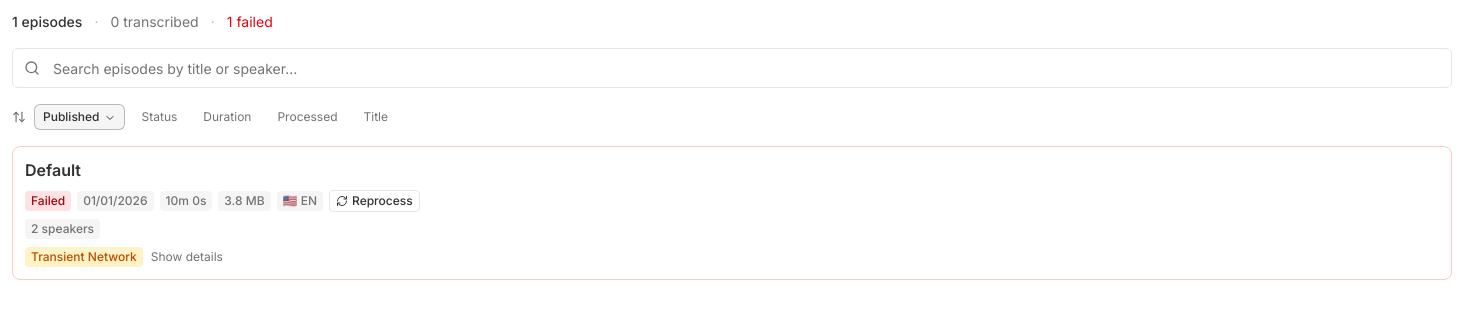
Test: EpisodesList — error toggle propagation › clicking the error toggle on a failed episode expands it
Expected: the text "Connection reset" is not shown
Click the button "Show details": (187, 257) [151,249,223,265]
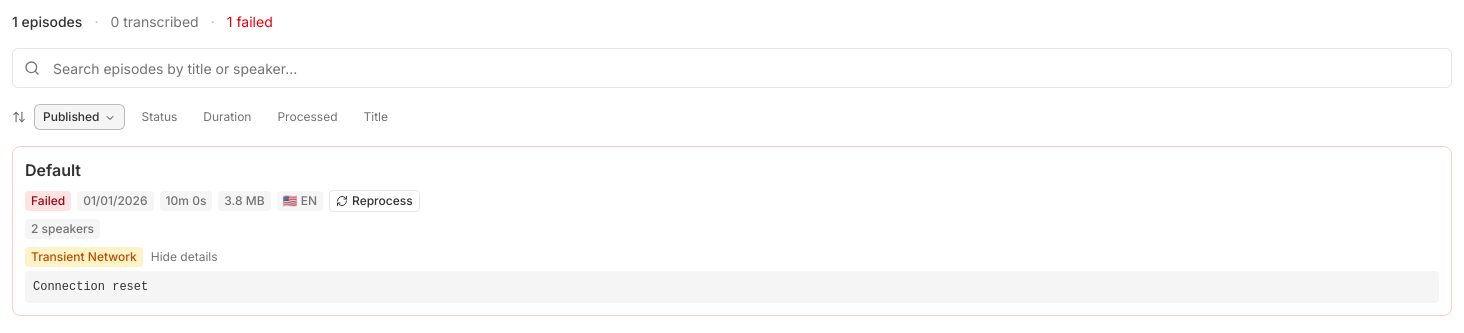
Now the text "Connection reset" is shown, box [25,271,1439,303]
Note: Click again → collapses
Click the button "Hide details": (184, 257) [151,249,218,265]
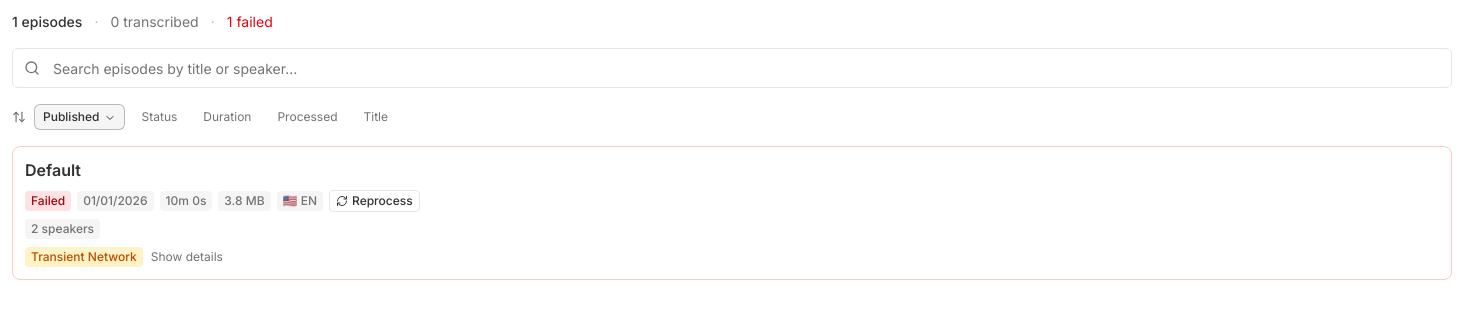
Now the text "Connection reset" is gone
